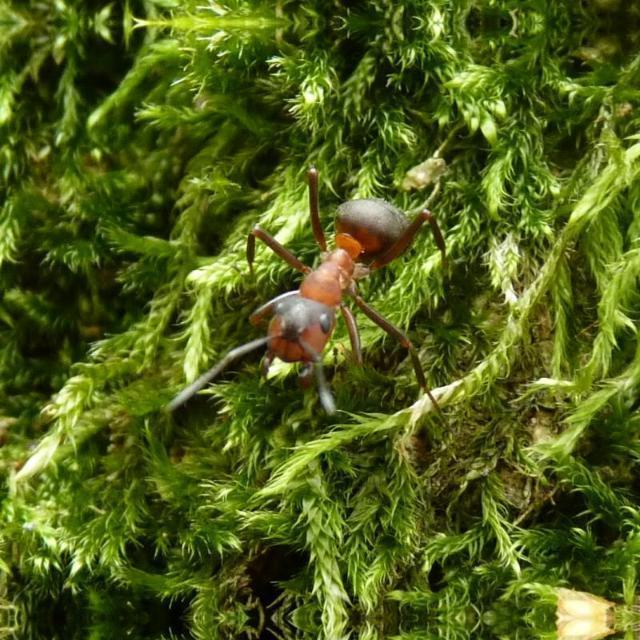Formica: (222, 177, 482, 425)
